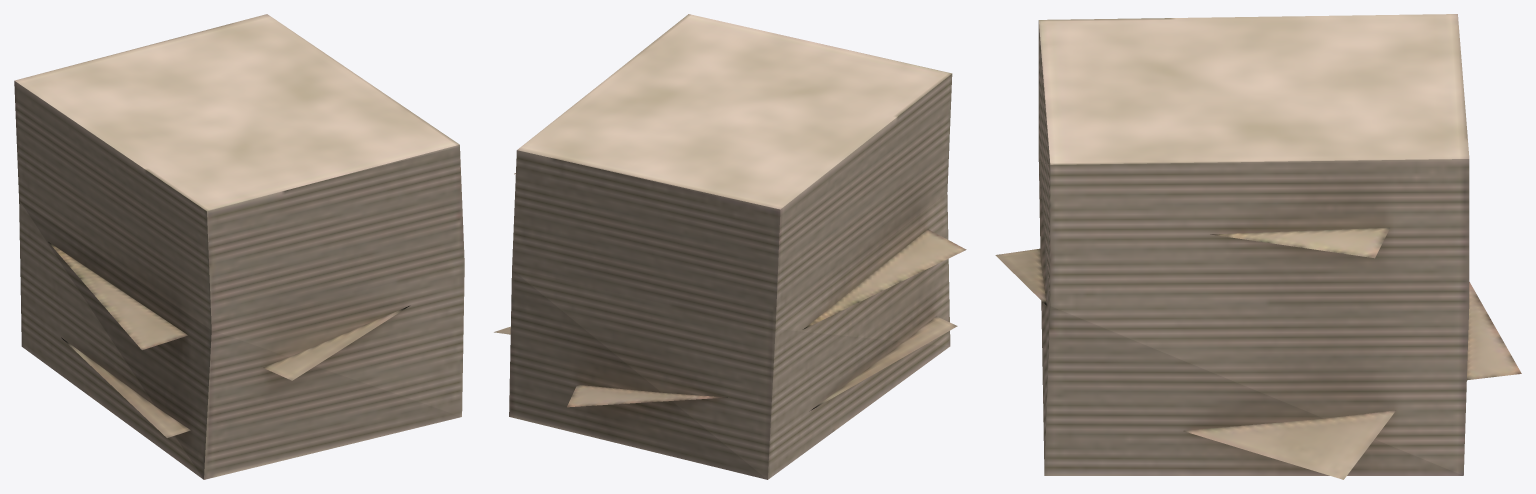
The model's file is paper_stack.fbx.
3 renders of one model, left to right at view 1: azimuth 30°, elevation 25°; view 2: azimuth 150°, elevation 25°; view 3: azimuth 270°, elevation 25°, orthographic. The views are drawn at different scales.
Parts seen in each view (by area): view 1: PaperStack1.024; view 2: PaperStack1.024; view 3: PaperStack1.024.
Boxes of the visible parts, left/top/right/bottom form: PaperStack1.024: left=14, top=14, right=464, bottom=479; PaperStack1.024: left=494, top=14, right=966, bottom=479; PaperStack1.024: left=995, top=14, right=1521, bottom=479.
Bounding box in the file's own units: 81.27 × 74.9 × 52.98.
1 material, 1 textured.
